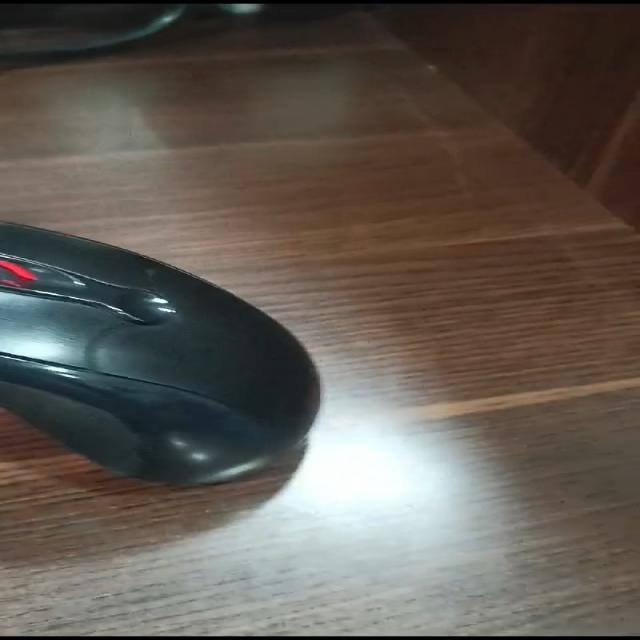mouse: (0, 198, 398, 507)
